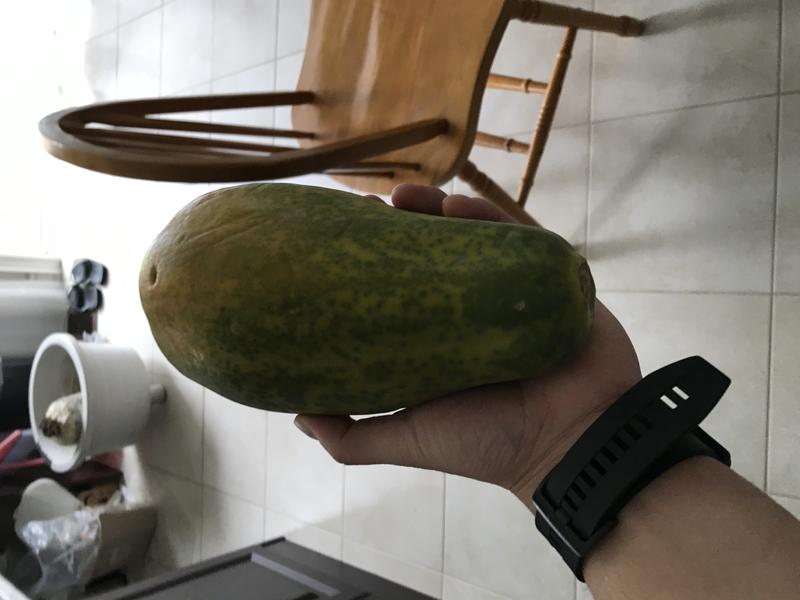papaya: (131, 174, 612, 424)
